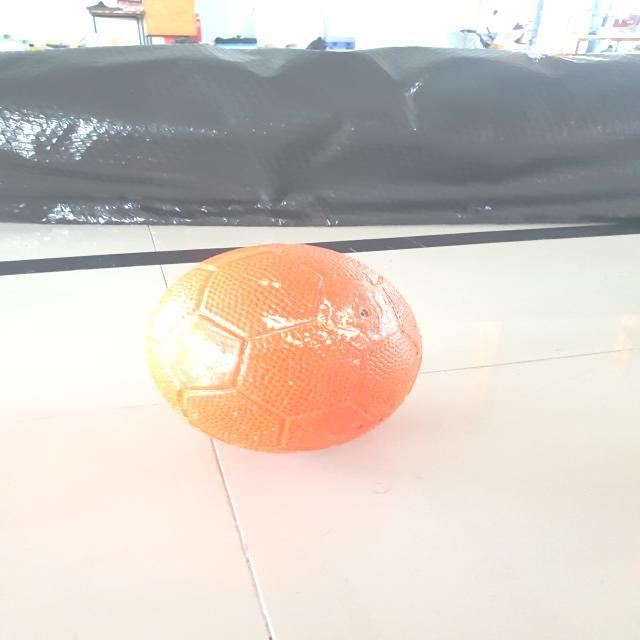bola: (143, 240, 430, 469)
